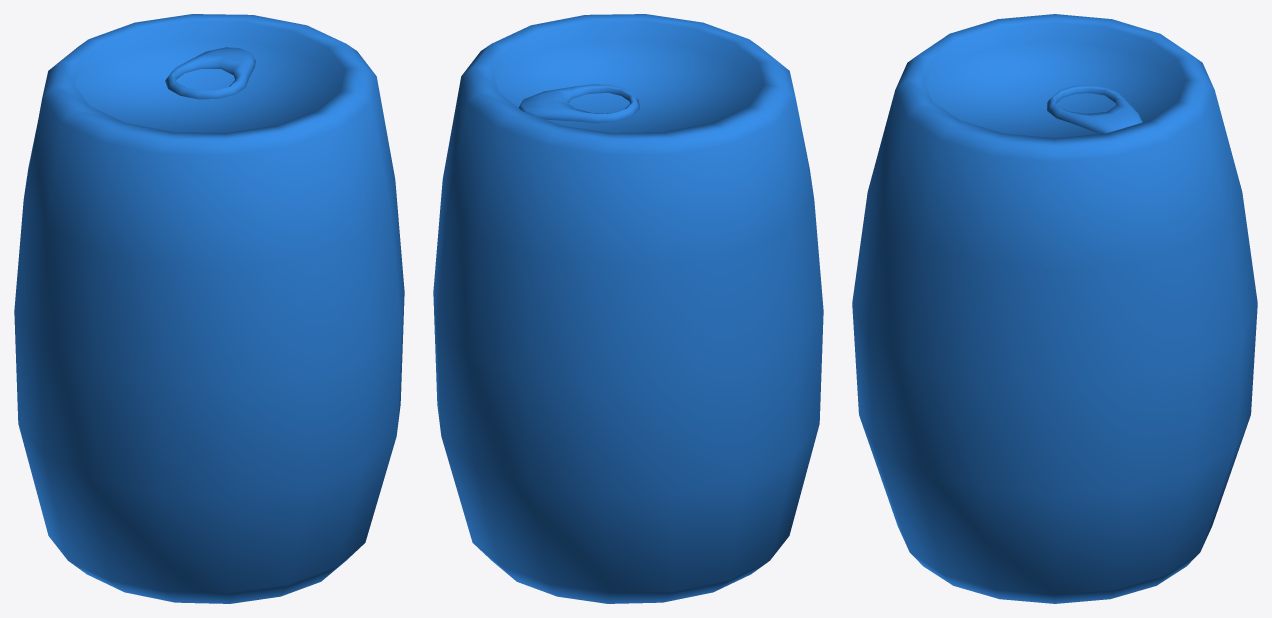
Rendered from S_Can_1.fbx.
The picture shows the model from 3 angles, left to right: view 1: azimuth 30°, elevation 25°; view 2: azimuth 150°, elevation 25°; view 3: azimuth 270°, elevation 25°; orthographic projection.
Visible parts, largest first — view 1: Cans_low; view 2: Cans_low; view 3: Cans_low.
Boxes of the visible parts, x1,y1,x2,y2 form: Cans_low: (14,14,404,603); Cans_low: (433,14,823,603); Cans_low: (852,14,1257,603).
Bounding box in the file's own units: 0.1352 × 0.1786 × 0.1415.
